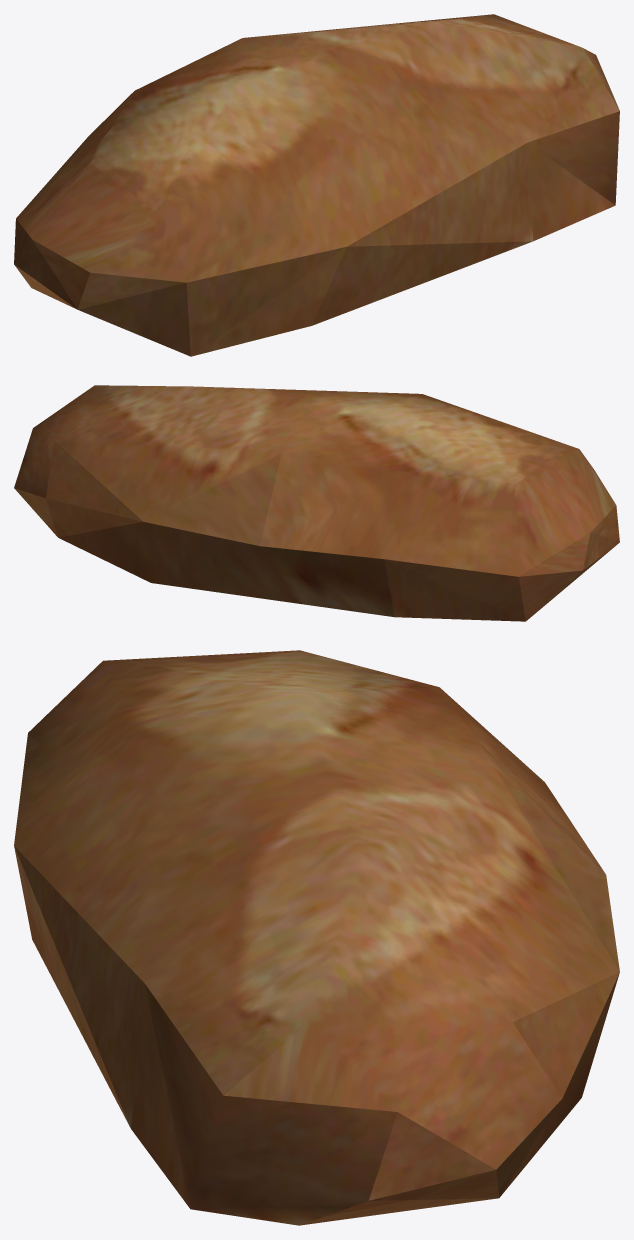
The model's file is p_glo_bread_loaf_lod1.glb.
The picture shows the model from 3 angles, top to bottom: view 1: azimuth 30°, elevation 25°; view 2: azimuth 150°, elevation 25°; view 3: azimuth 270°, elevation 25°; orthographic projection. The views are drawn at different scales.
Parts seen in each view (by area): view 1: surf0; view 2: surf0; view 3: surf0.
Part boxes in pixels (x1,y1,x2,y2): surf0: [14, 14, 619, 356]; surf0: [14, 385, 619, 621]; surf0: [14, 650, 619, 1225].
Size of the model in its own units: 13.7 by 3.9 by 7.72.
